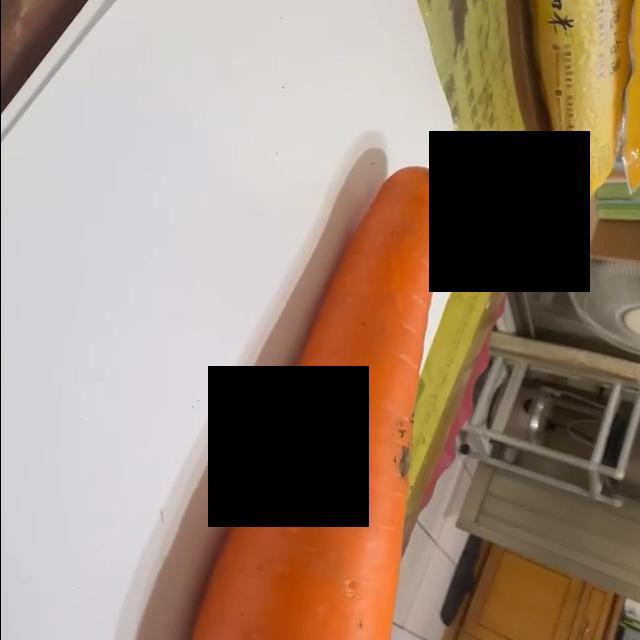carrot: (182, 165, 454, 640)
